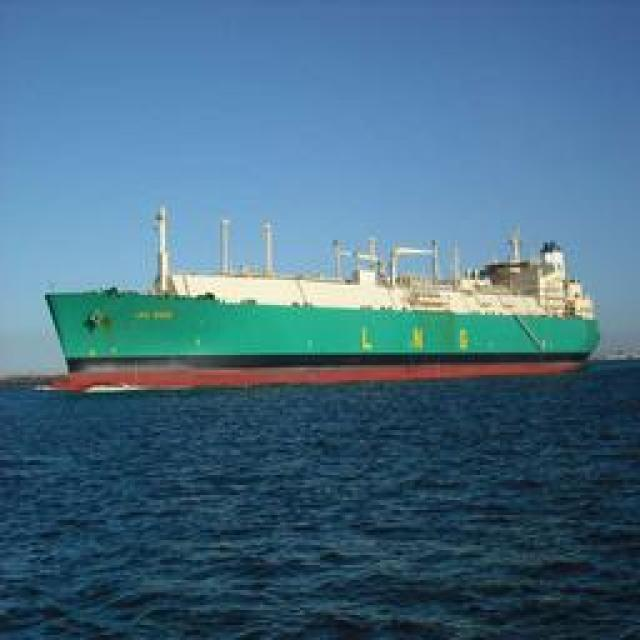ship2: (44, 201, 602, 394)
